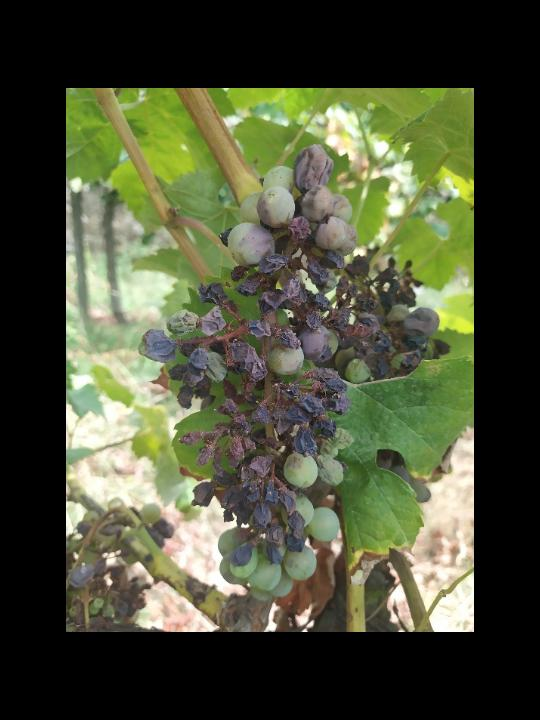grape: (136, 140, 442, 603)
